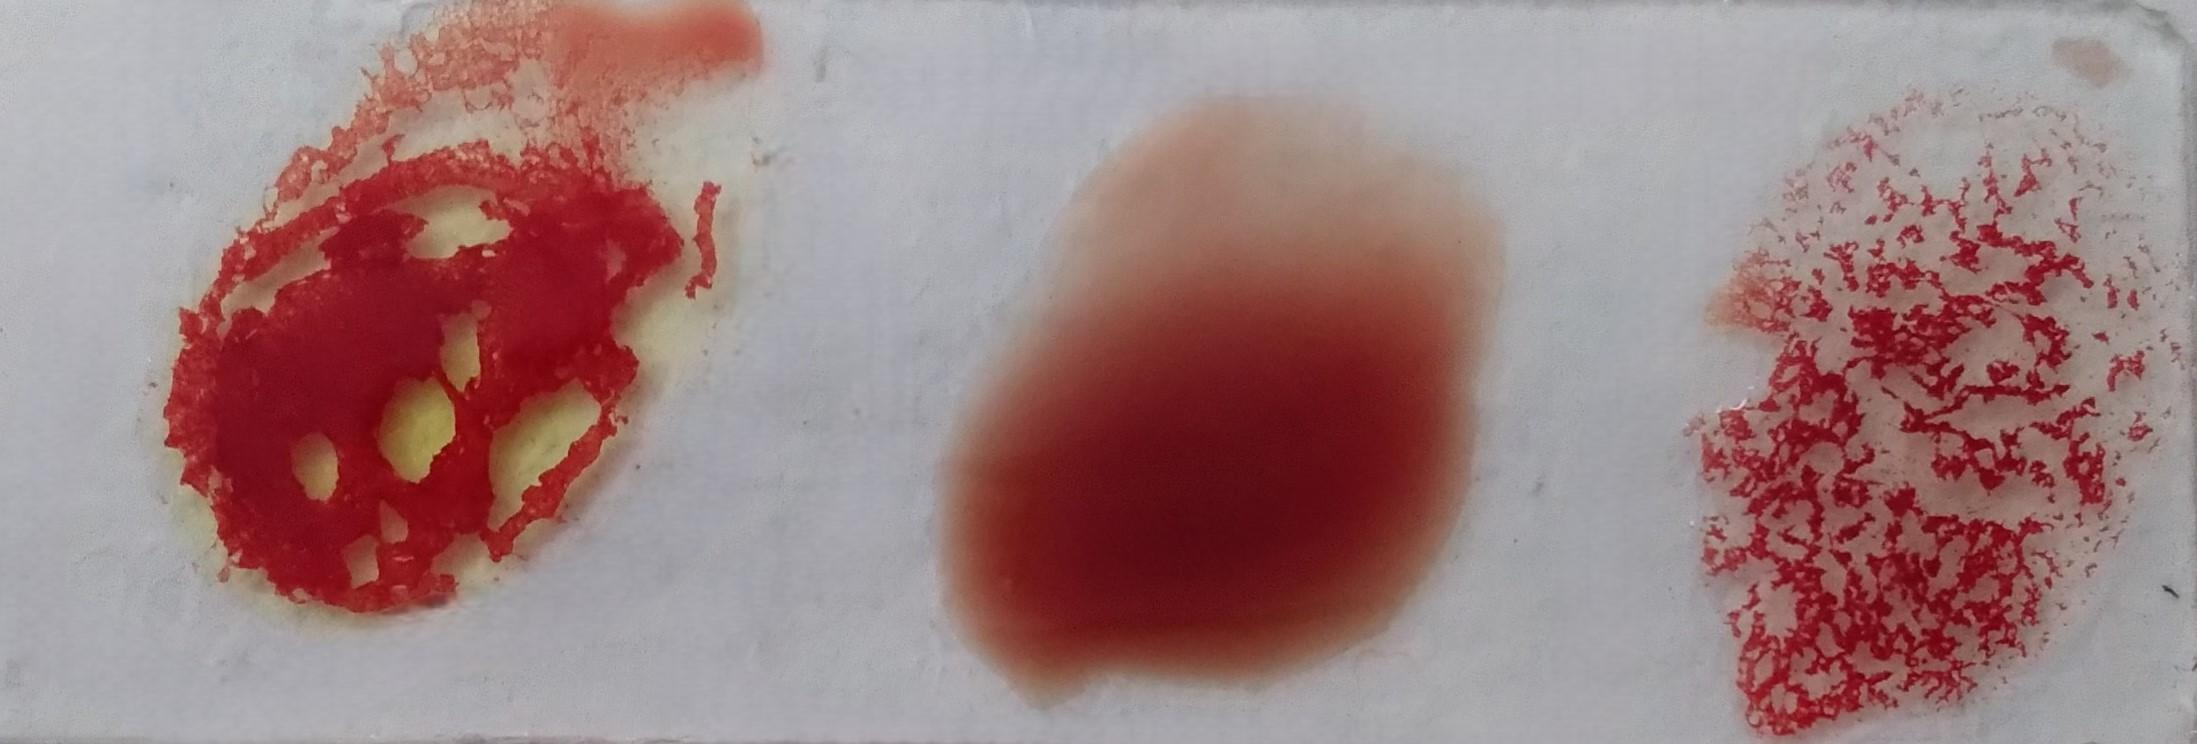B: (192, 24, 715, 612)
D: (1679, 98, 2158, 744)
